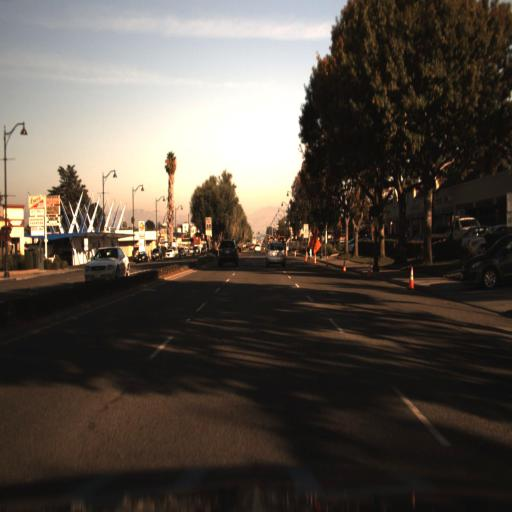car: (463, 233, 512, 293), (84, 245, 132, 291), (213, 235, 241, 268), (264, 241, 284, 266), (163, 240, 175, 265), (133, 249, 149, 265), (149, 246, 165, 262), (148, 247, 162, 264)
truck: (433, 212, 478, 239)
